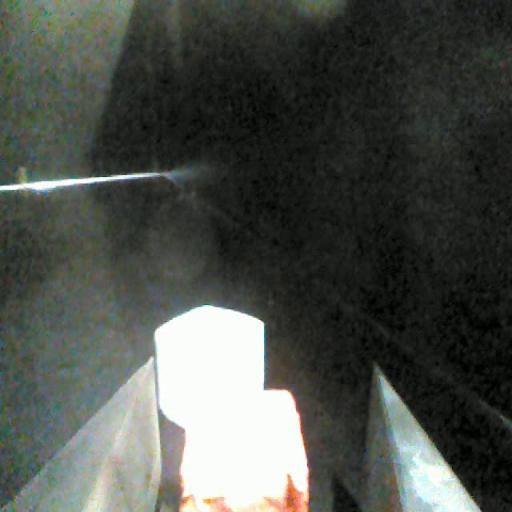cube: (174, 392, 308, 512), (153, 304, 271, 432)
